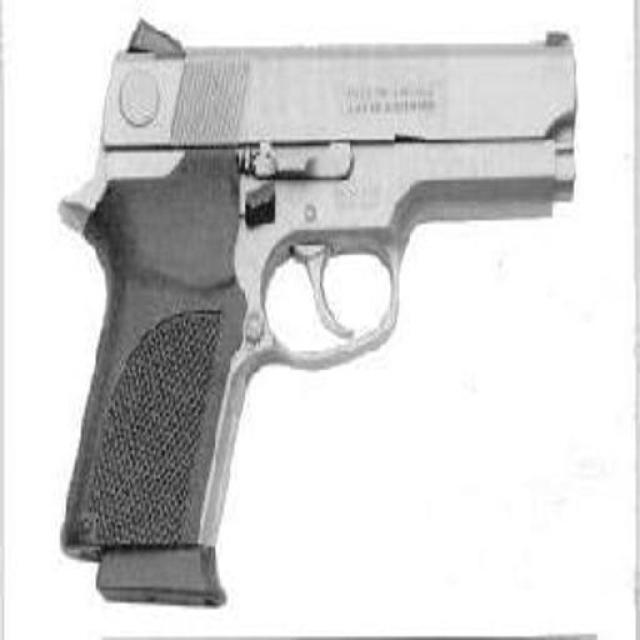pistol: (49, 21, 578, 615)
